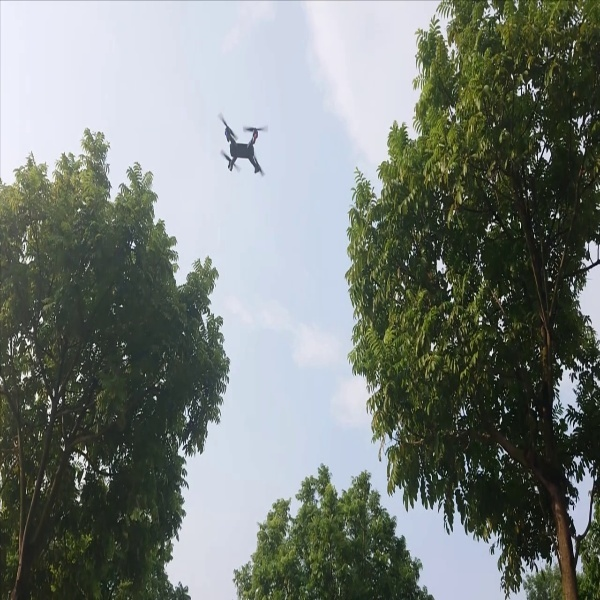drone: (215, 110, 273, 186)
